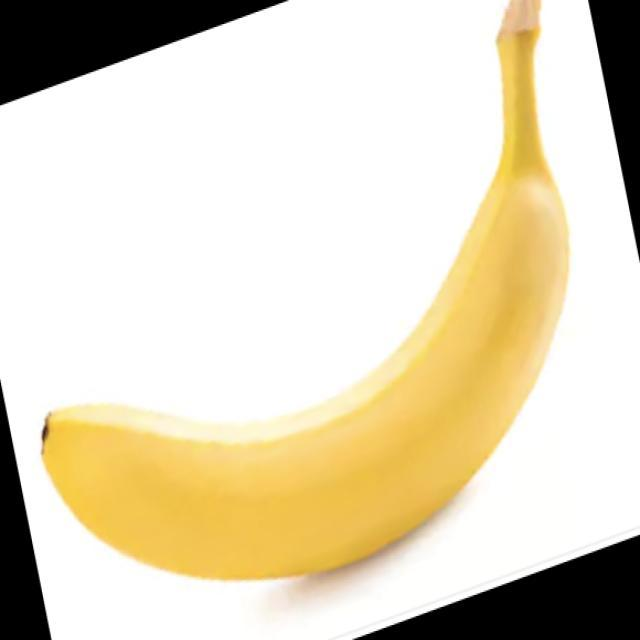Banana: (40, 0, 570, 582)
